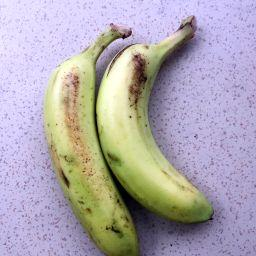Banana Ripe: (39, 10, 220, 256), (96, 11, 235, 235), (45, 15, 149, 256)
